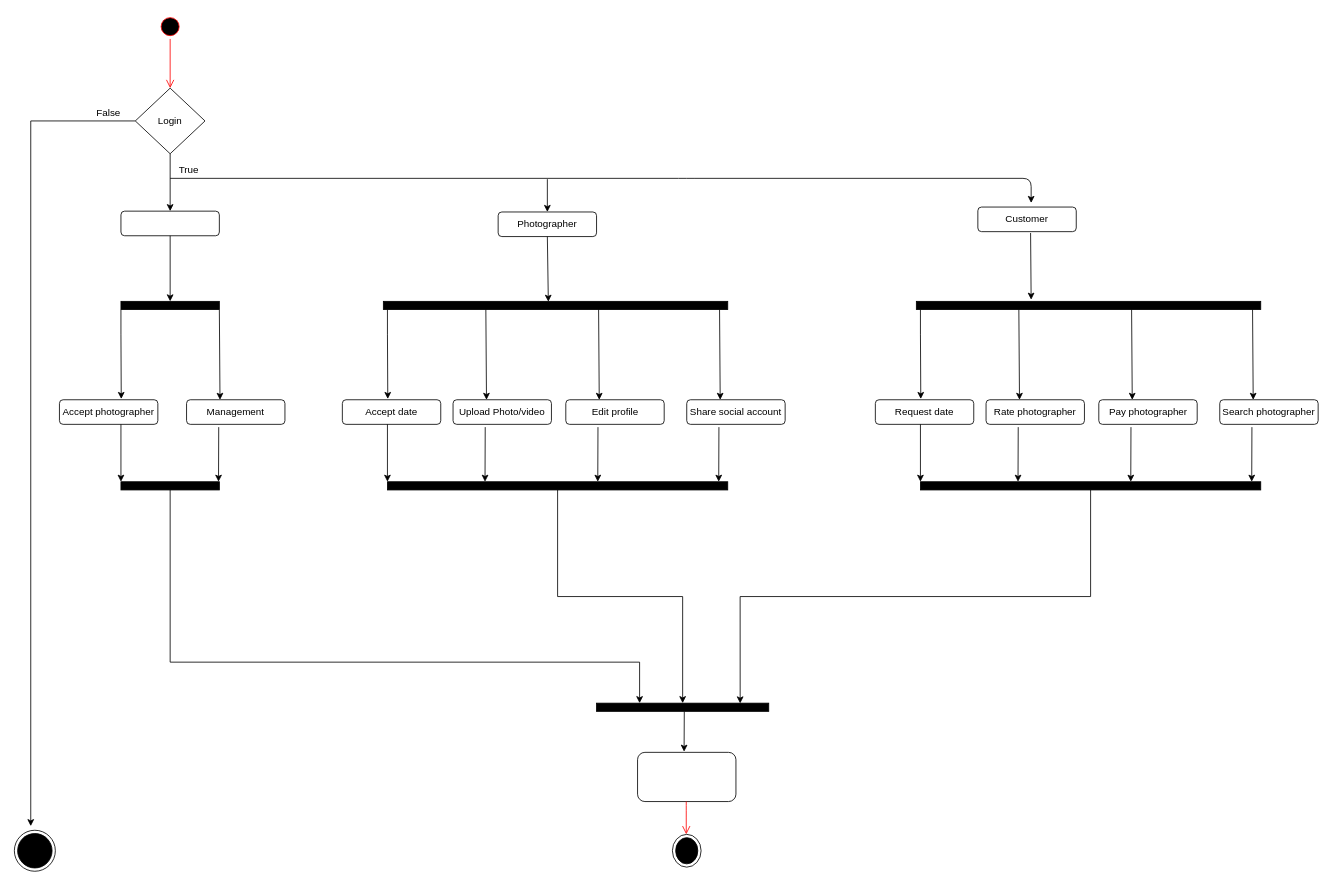
Image size: 1333x886. Some labels were removed from this diagram. The centre of each missing label's shape, as x and y in pixels:
"Admin" belongs at pixel 169 223.
"Logout" belongs at pixel 686 777.
